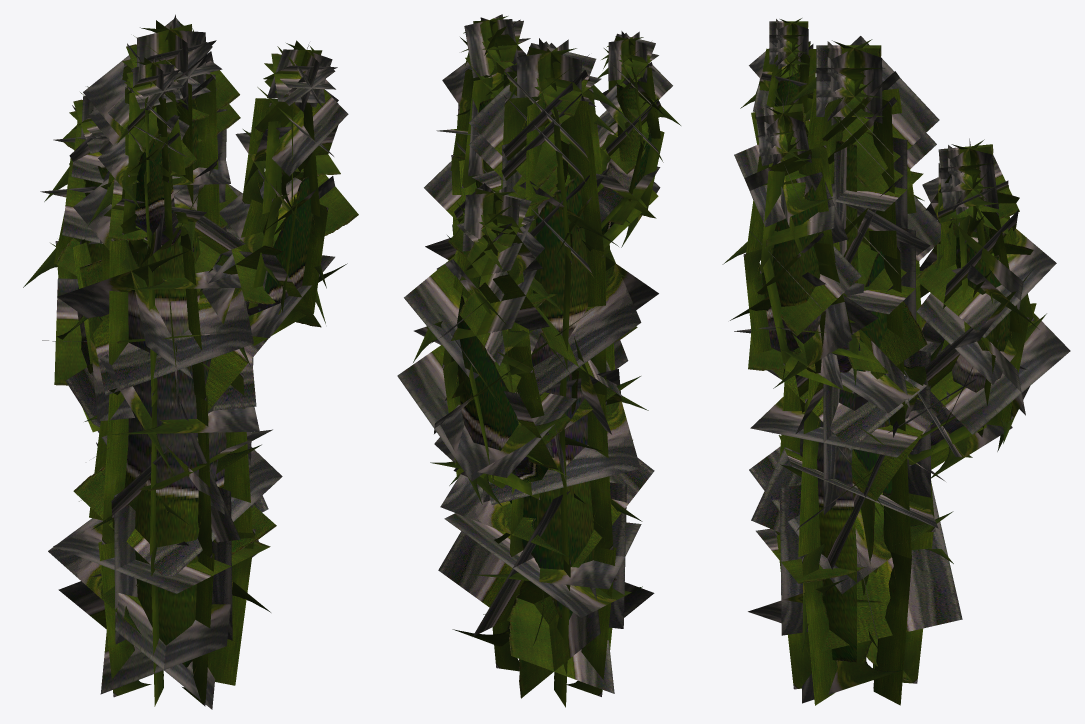
The model's file is cactus.FBX.
3 renders of one model, left to right at view 1: azimuth 30°, elevation 25°; view 2: azimuth 150°, elevation 25°; view 3: azimuth 270°, elevation 25°, orthographic. The views are drawn at different scales.
Parts seen in each view (by area): view 1: cactus; view 2: cactus; view 3: cactus.
Part boxes in pixels (x1,y1,x2,y2): cactus: [23, 14, 358, 709]; cactus: [397, 14, 680, 707]; cactus: [722, 18, 1070, 705].
Size of the model in its own units: 121 by 306 by 151.
